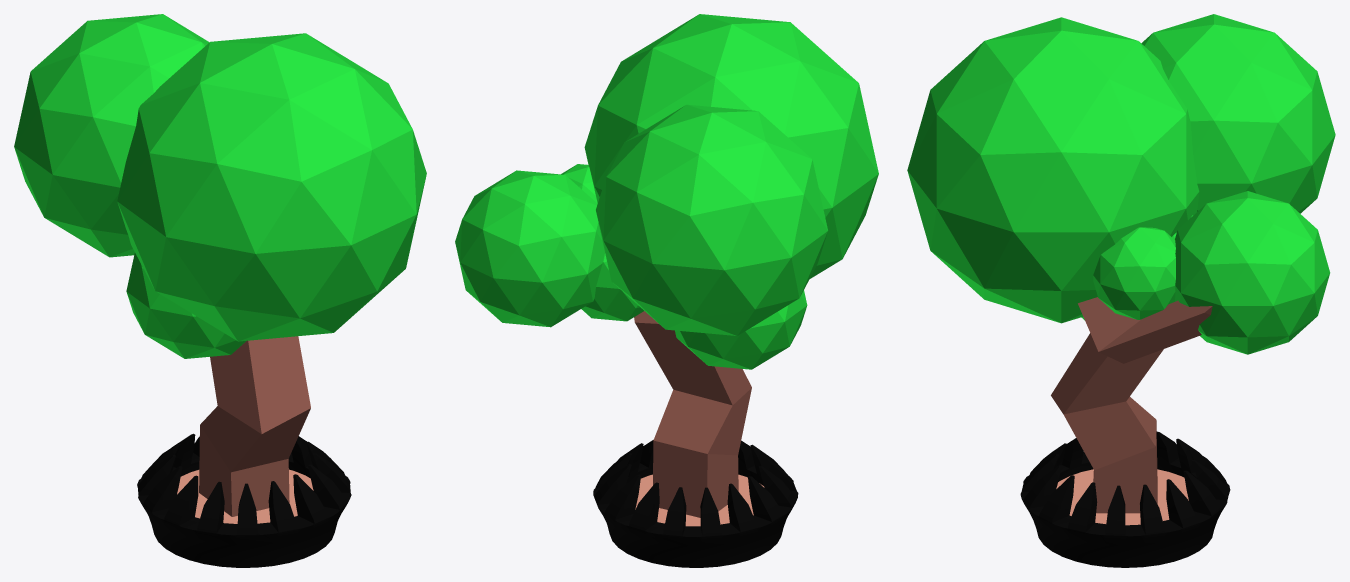
The model's file is Park_Tree.fbx.
3 renders of one model, left to right at view 1: azimuth 30°, elevation 25°; view 2: azimuth 150°, elevation 25°; view 3: azimuth 270°, elevation 25°, orthographic. The views are drawn at different scales.
Parts seen in each view (by area): view 1: Park_Tree; view 2: Park_Tree; view 3: Park_Tree.
Boxes of the visible parts, x1,y1,x2,y2 form: Park_Tree: [14, 14, 426, 567]; Park_Tree: [455, 14, 878, 567]; Park_Tree: [907, 14, 1335, 567].
Bounding box in the file's own units: 5.7 × 6.33 × 8.11.
